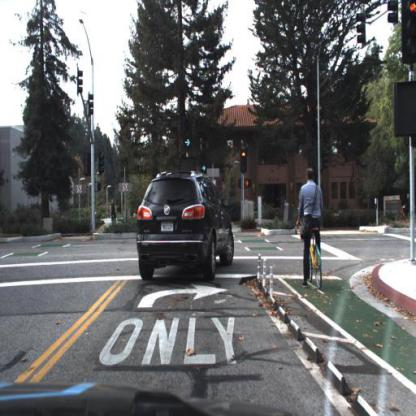biker: (299, 166, 326, 292), (396, 187, 416, 231), (109, 200, 119, 229)
car: (127, 170, 239, 284)
pedestrian: (308, 194, 319, 230)
trafficLight: (184, 122, 192, 155), (202, 163, 207, 182)
trafficLight-Red: (242, 152, 248, 173)
